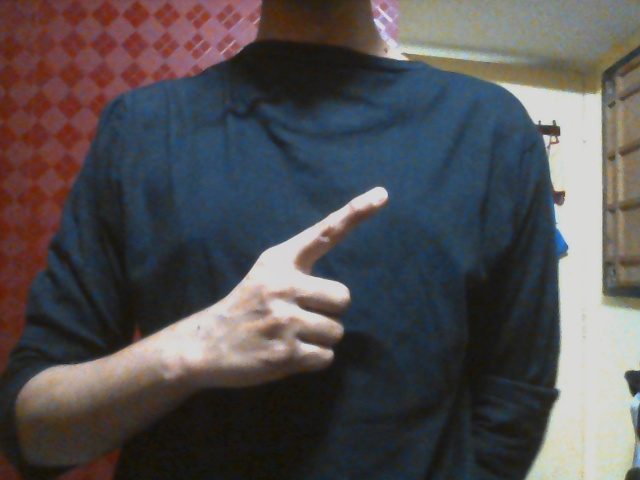I: (208, 184, 401, 391)
